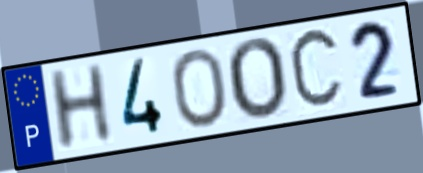2: (346, 17, 407, 106)
4: (119, 55, 167, 139)
C: (286, 23, 346, 116)
H: (45, 60, 117, 155)
O: (223, 35, 289, 123), (168, 46, 231, 131)
